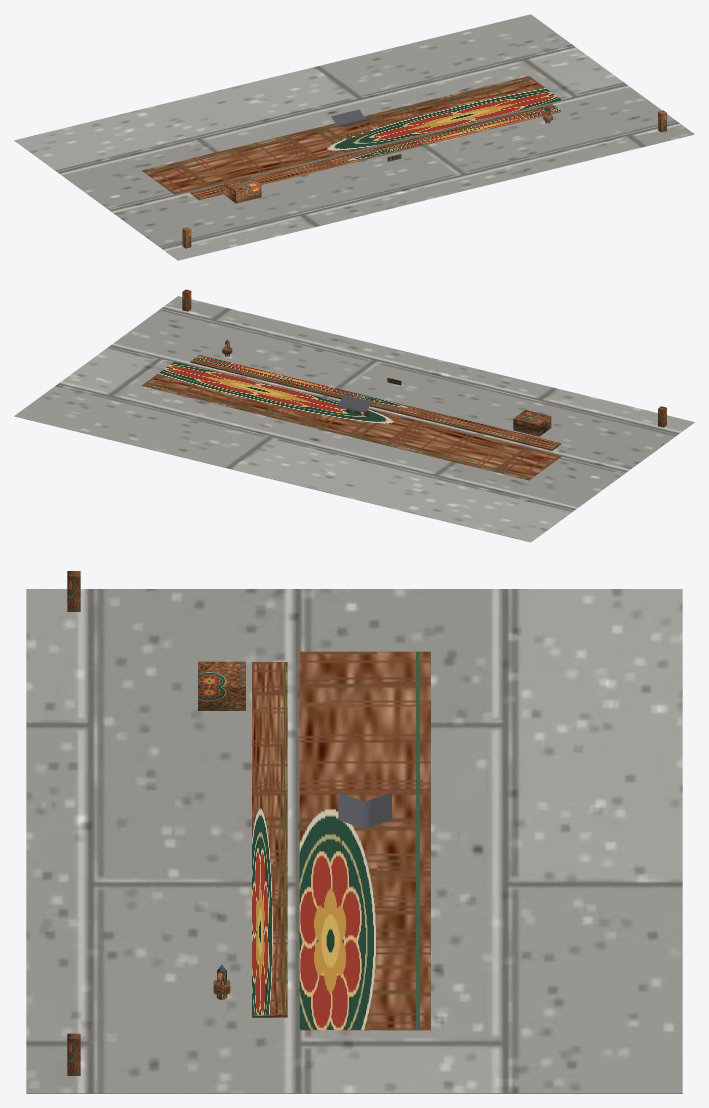
3 renders of one model, top to bottom at view 1: azimuth 30°, elevation 25°; view 2: azimuth 150°, elevation 25°; view 3: azimuth 270°, elevation 25°, orthographic. The views are drawn at different scales.
Parts seen in each view (by area): view 1: 11710_01_05798_039_01_L2__base, 11710_01_05798_039_02_L2__body, 11710_01_05798_039_03_L2__roof, 11710_01_05798_039_06_L2__green; view 2: 11710_01_05798_039_01_L2__base, 11710_01_05798_039_02_L2__body, 11710_01_05798_039_03_L2__roof; view 3: 11710_01_05798_039_01_L2__base, 11710_01_05798_039_02_L2__body, 11710_01_05798_039_03_L2__roof, 11710_01_05798_039_06_L2__green.
Boxes of the visible parts, x1,y1,x2,y2 form: 11710_01_05798_039_01_L2__base: (14,14,694,260); 11710_01_05798_039_02_L2__body: (141,76,561,203); 11710_01_05798_039_03_L2__roof: (331,106,550,126); 11710_01_05798_039_06_L2__green: (182,110,666,248); 11710_01_05798_039_01_L2__base: (14,296,694,542); 11710_01_05798_039_02_L2__body: (142,343,561,480); 11710_01_05798_039_03_L2__roof: (225,339,372,411); 11710_01_05798_039_01_L2__base: (26,589,682,1093); 11710_01_05798_039_02_L2__body: (198,651,430,1030); 11710_01_05798_039_03_L2__roof: (217,792,391,972); 11710_01_05798_039_06_L2__green: (67,571,80,1075).
Size of the model in its own units: 200 by 6.9 by 110.
5 materials, 5 textured.
